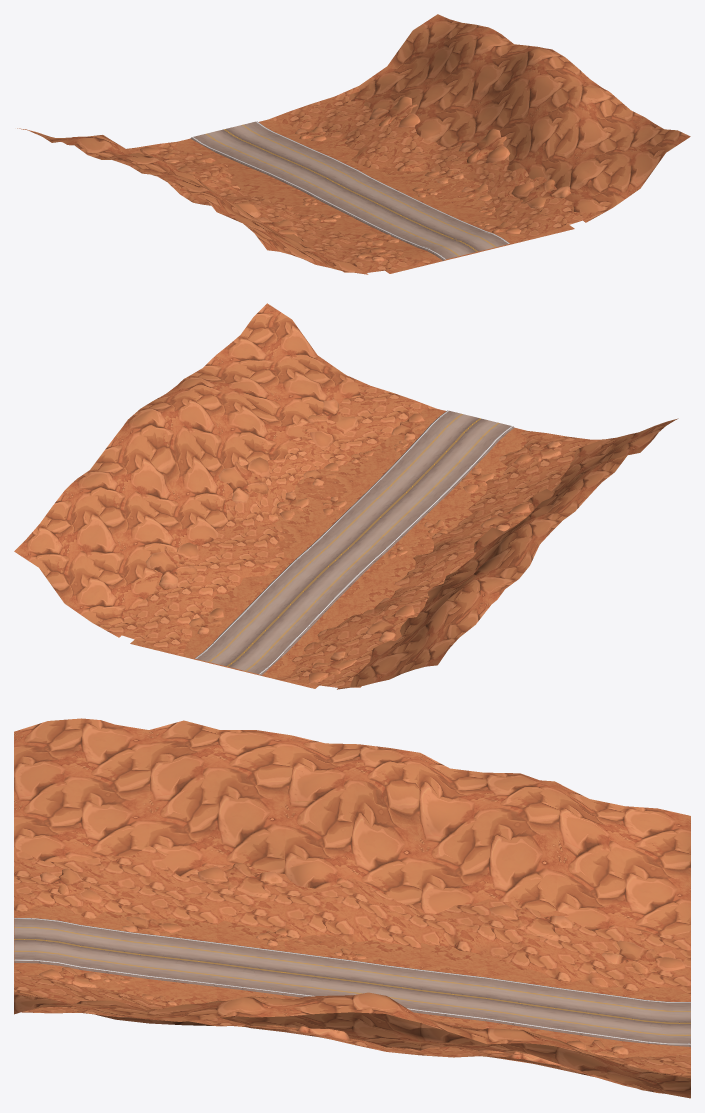
The model's file is Desert_Slope.FBX.
The picture shows the model from 3 angles, top to bottom: view 1: azimuth 30°, elevation 25°; view 2: azimuth 150°, elevation 25°; view 3: azimuth 270°, elevation 25°; orthographic projection. The views are drawn at different scales.
Parts seen in each view (by area): view 1: Desert_Slope_Side_R, Desert_Slope_Side_L, Desert_Slope_Road; view 2: Desert_Slope_Side_R, Desert_Slope_Side_L, Desert_Slope_Road; view 3: Desert_Slope_Side_L, Desert_Slope_Road, Desert_Slope_Side_R.
Boxes of the visible parts, x1,y1,x2,y2 form: Desert_Slope_Side_R: (259,14,690,252); Desert_Slope_Side_L: (17,128,477,274); Desert_Slope_Road: (190,121,509,260); Desert_Slope_Side_R: (14,303,446,667); Desert_Slope_Side_L: (228,418,678,689); Desert_Slope_Road: (194,410,514,675); Desert_Slope_Side_L: (14,718,690,1001); Desert_Slope_Road: (14,918,690,1046); Desert_Slope_Side_R: (14,941,690,1098).
Bounding box in the file's own units: 49.07 × 13.85 × 50.01.
2 materials, 2 textured.
